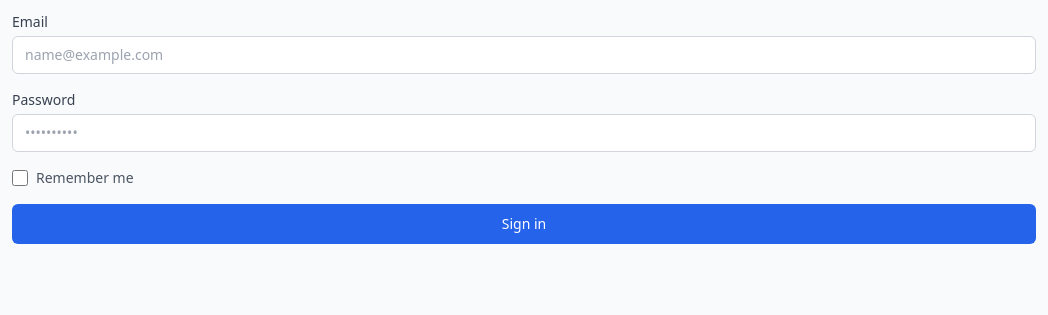
Test case: LoginForm › shows error message on failed sign-in
Type "wrong@example.com" into the field labelled "Email". click: (524,55)
box: [12, 36, 1036, 74]
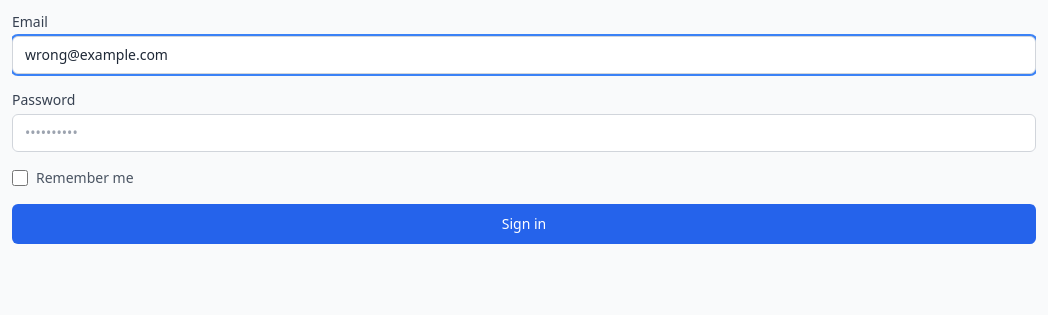
Type "wrongpass" into the password field labelled "Password". click: (524,133)
box: [12, 114, 1036, 152]
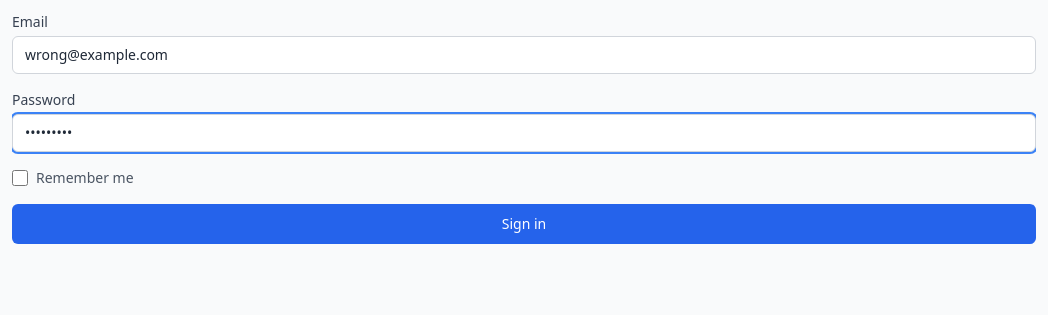
Click the button "Sign in". click: (524,224)
box: [12, 204, 1036, 244]
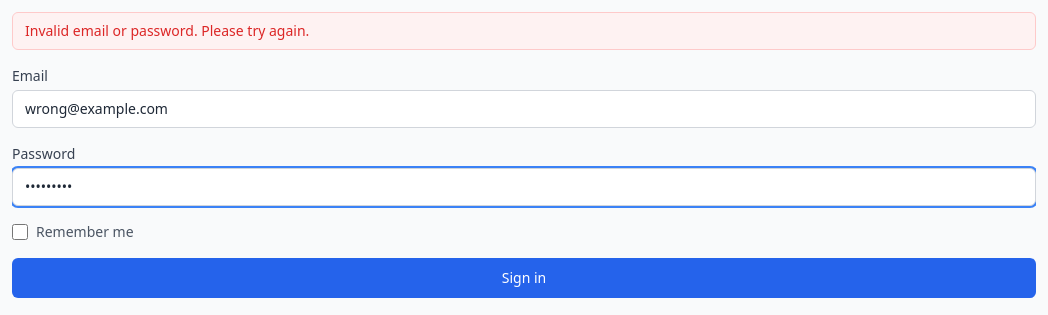
Expected: the text "Invalid email or password. Please try again." is shown, [12, 12, 1036, 50]
